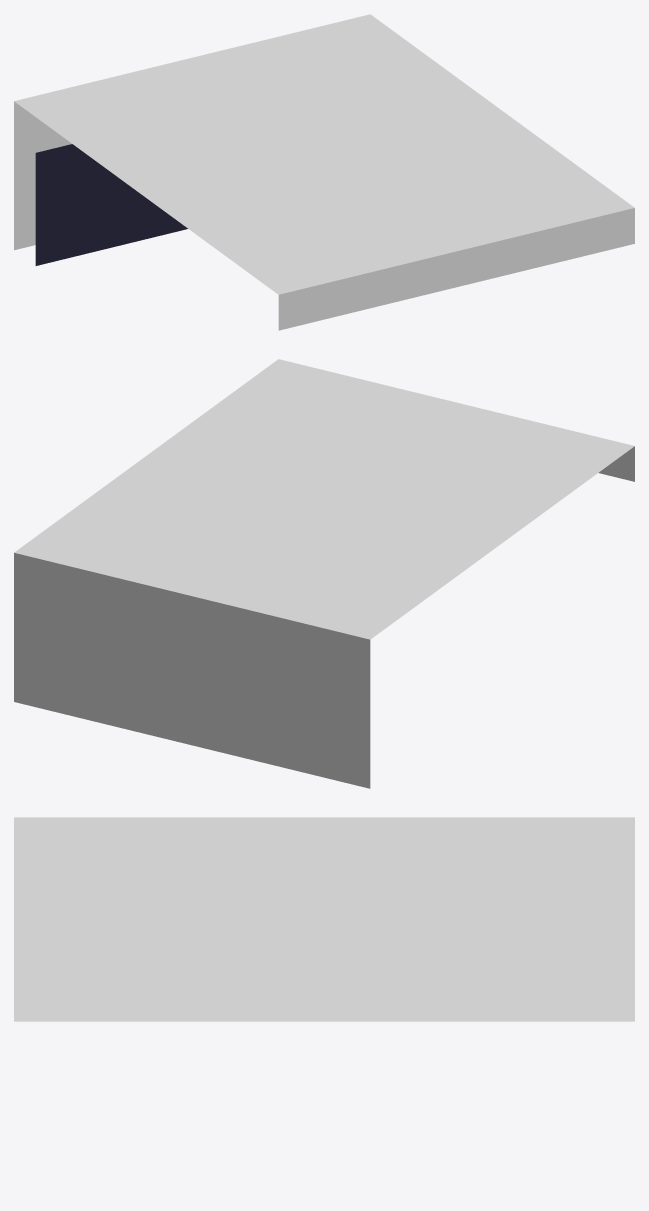
File: 1U Ceiling Large.fbx
3 renders of one model, top to bottom at view 1: azimuth 30°, elevation 25°; view 2: azimuth 150°, elevation 25°; view 3: azimuth 270°, elevation 25°, orthographic. The views are drawn at different scales.
Parts seen in each view (by area): view 1: 1U Ceiling Large; view 2: 1U Ceiling Large; view 3: 1U Ceiling Large.
Boxes of the visible parts, <box> form: 1U Ceiling Large: <box>14,14,634,330</box>; 1U Ceiling Large: <box>14,359,634,788</box>; 1U Ceiling Large: <box>14,817,634,1021</box>.
Bounding box in the file's own units: 622 × 249 × 799.
